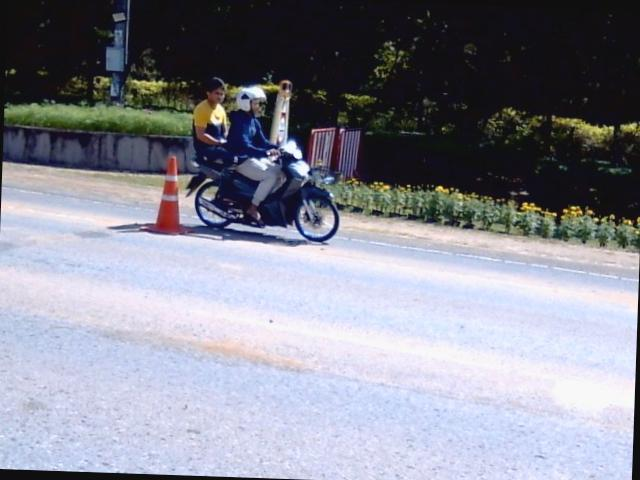helmet: (237, 86, 264, 110)
motor: (259, 141, 339, 240), (186, 158, 260, 227)
no-helmet: (203, 77, 229, 102)
person: (226, 88, 280, 224), (192, 77, 227, 157)
